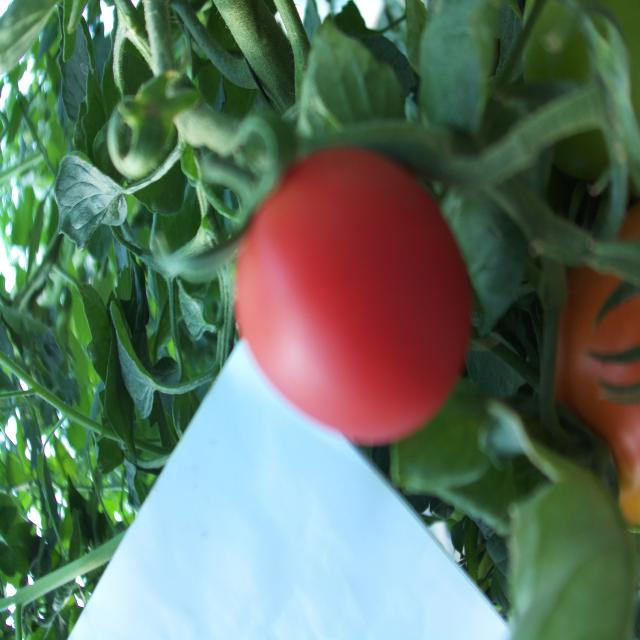kirmizi: (220, 128, 488, 455)
